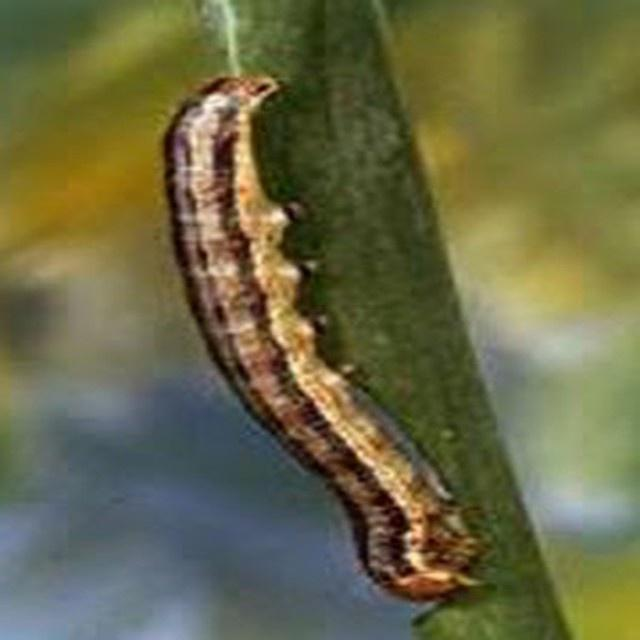gusano_cogollero: (167, 70, 480, 598)
